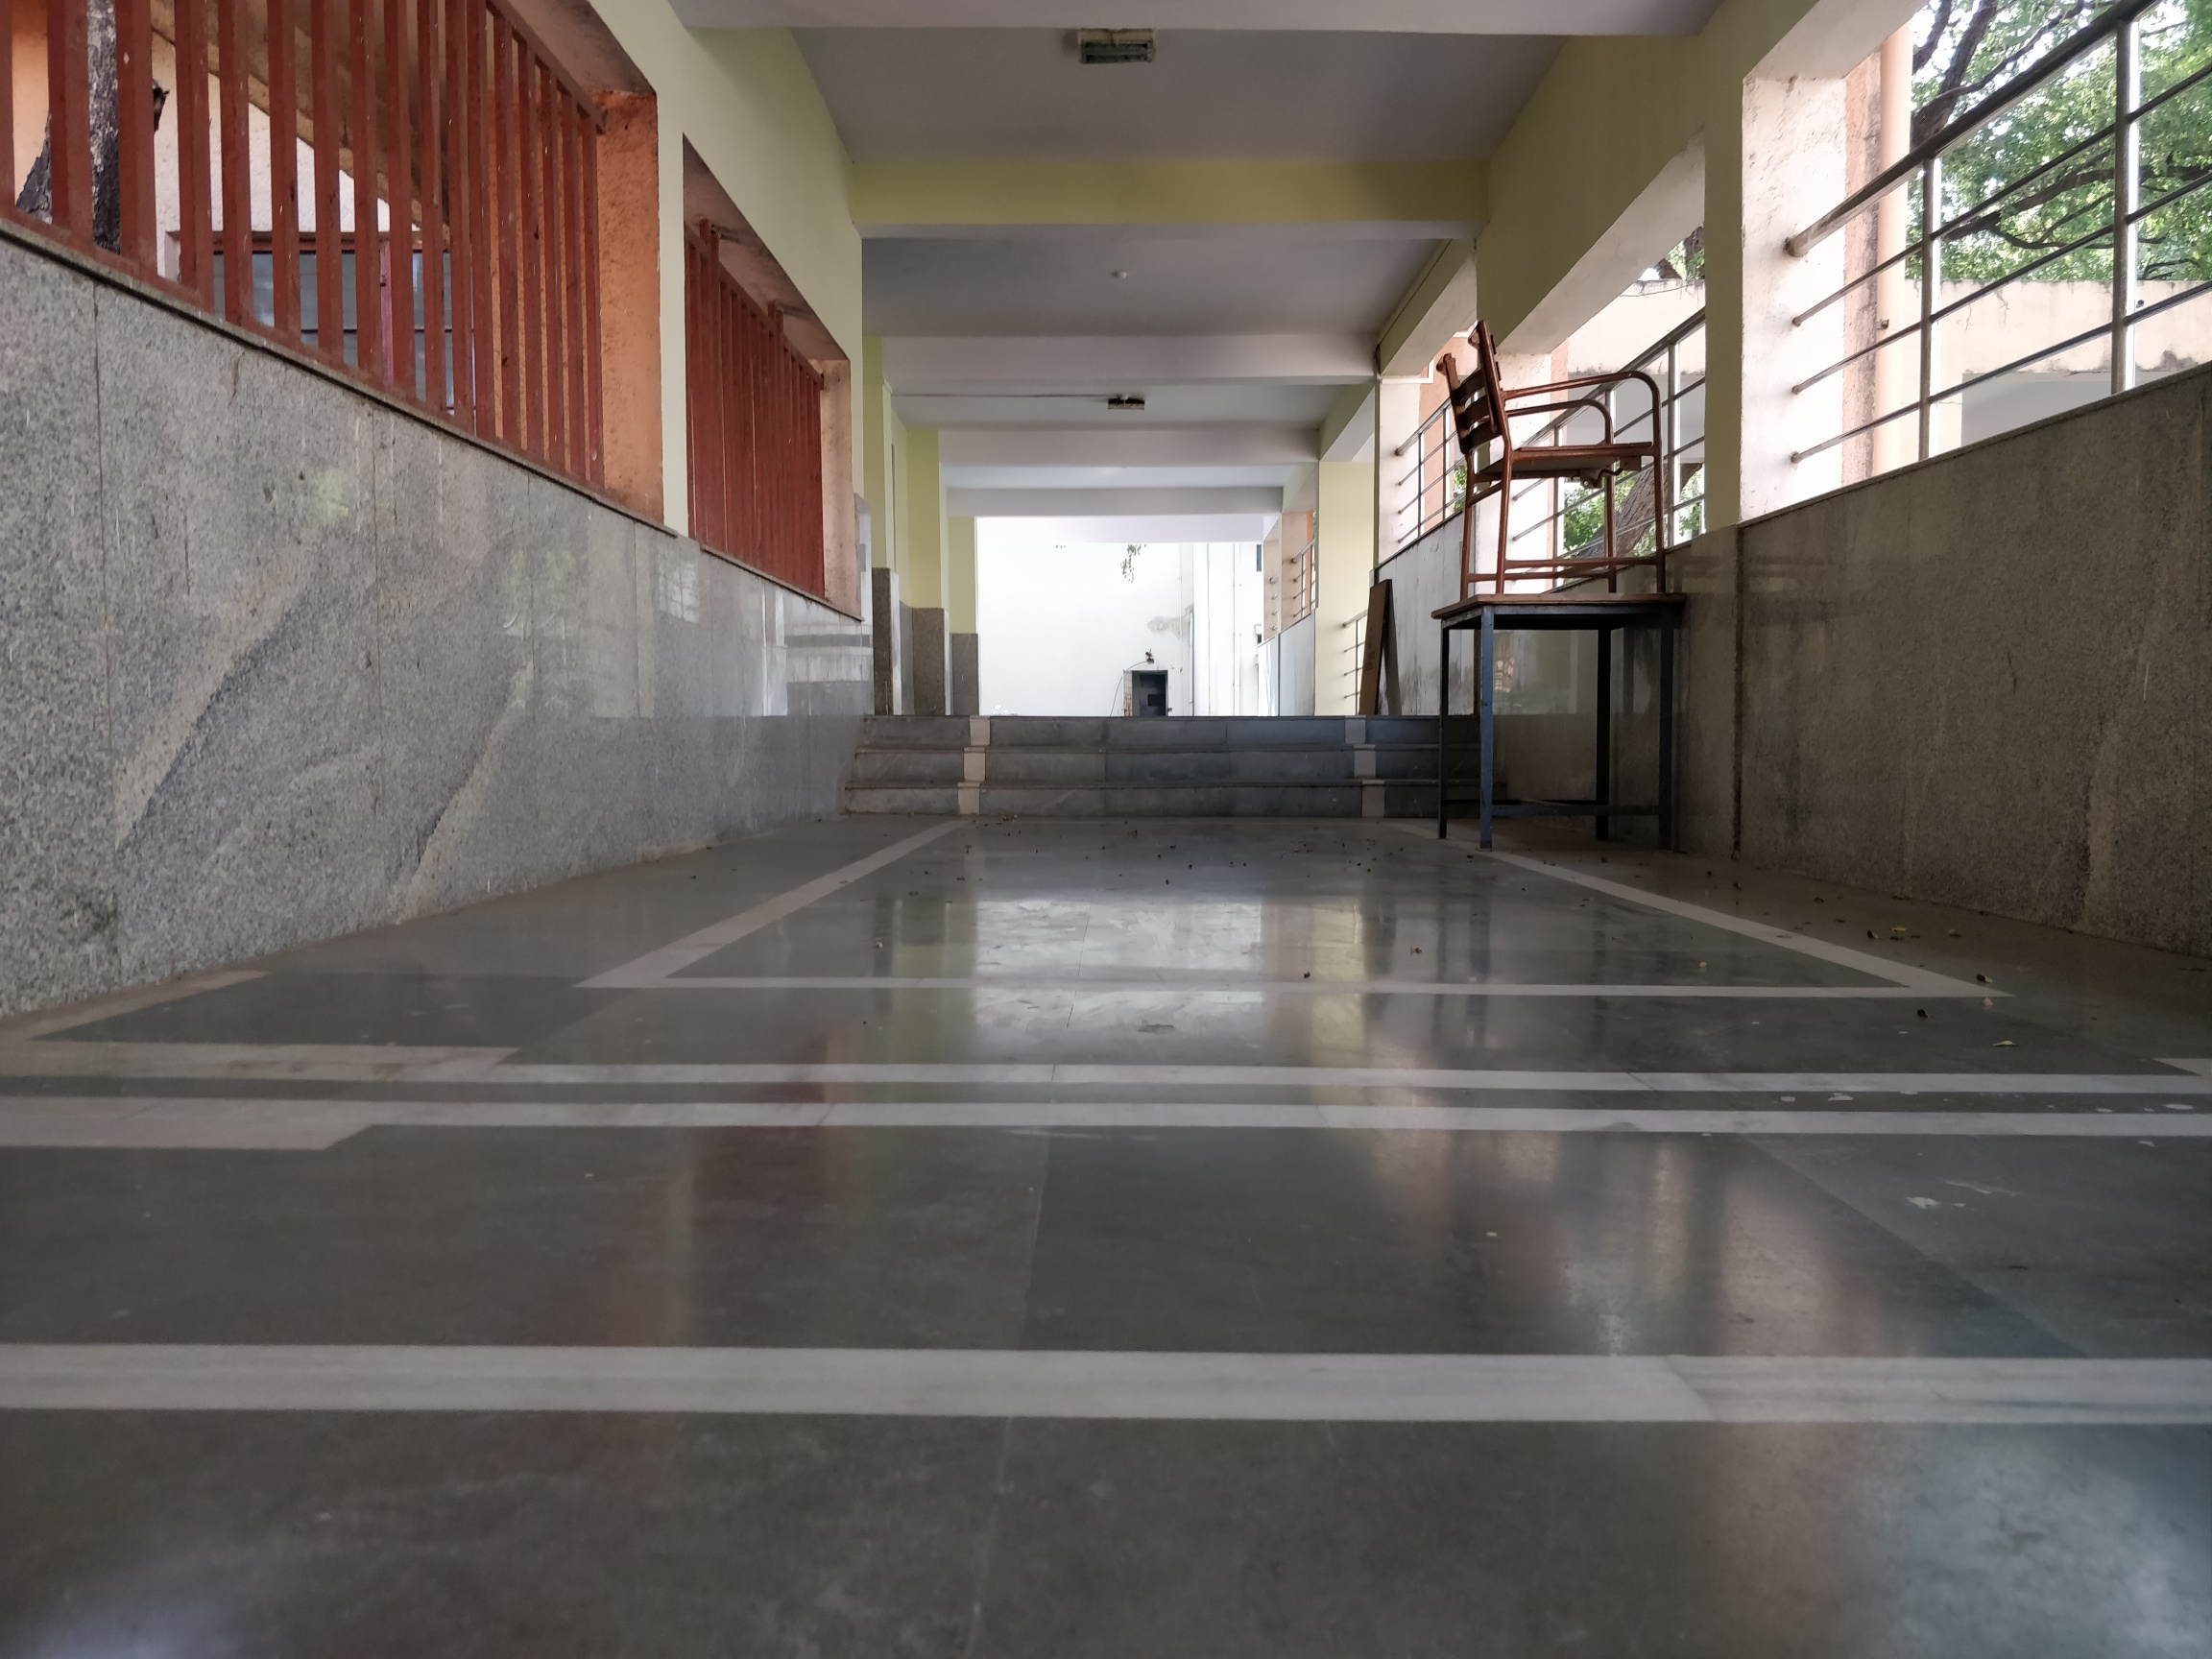stairs_up: (820, 714, 1515, 819)
